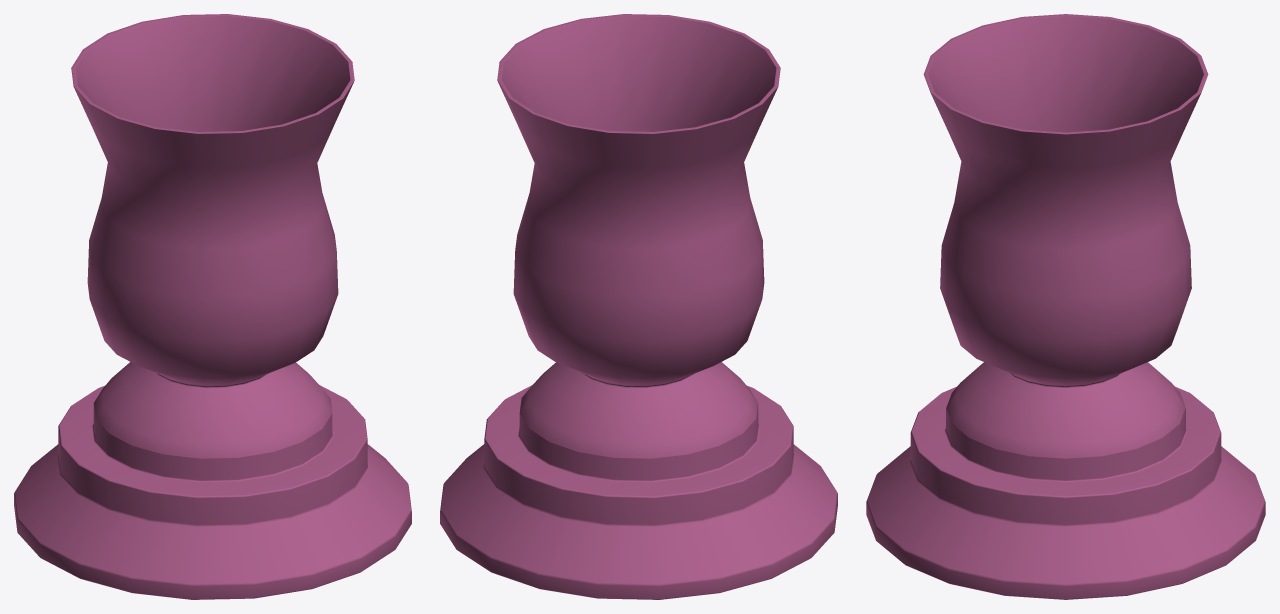
File: Trophy 2.fbx
The picture shows the model from 3 angles, left to right: view 1: azimuth 30°, elevation 25°; view 2: azimuth 150°, elevation 25°; view 3: azimuth 270°, elevation 25°; orthographic projection.
Visible parts, largest first — view 1: pCylinder3, pCylinder4; view 2: pCylinder3, pCylinder4; view 3: pCylinder3, pCylinder4.
Boxes of the visible parts, x1,y1,x2,y2 form: pCylinder3: (71, 14, 354, 457); pCylinder4: (14, 385, 411, 599); pCylinder3: (497, 14, 780, 457); pCylinder4: (440, 385, 837, 599); pCylinder3: (923, 14, 1208, 457); pCylinder4: (866, 386, 1265, 599).
Size of the model in its own units: 186 by 228 by 186.
